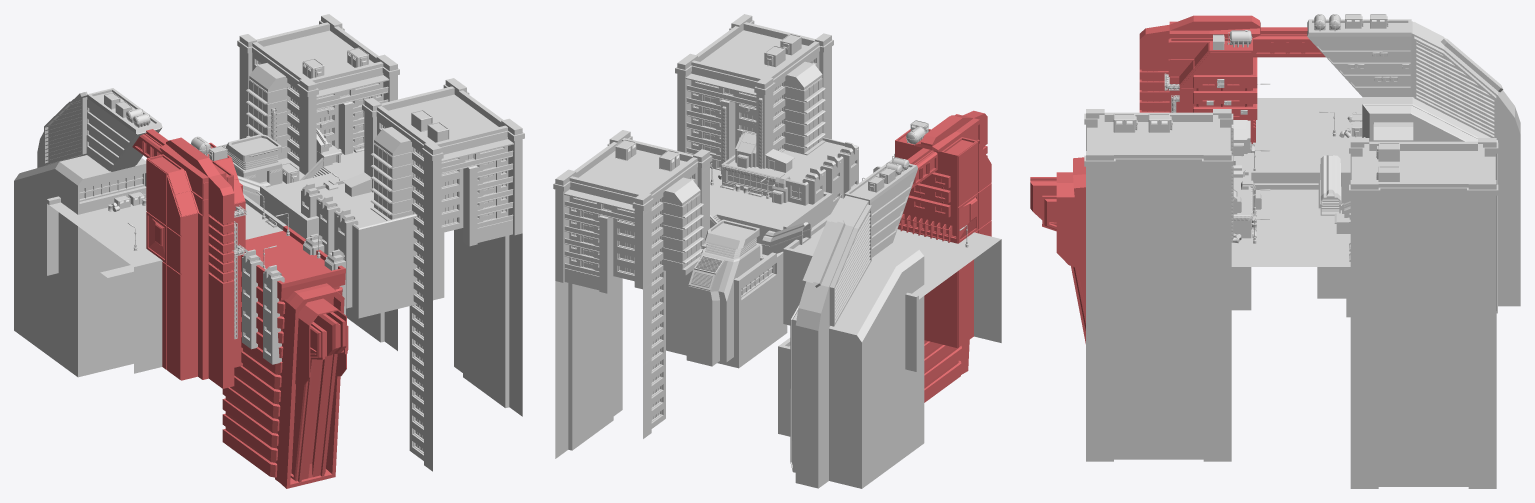
The model's file is SergamePresentation.fbx.
The picture shows the model from 3 angles, left to right: view 1: azimuth 30°, elevation 25°; view 2: azimuth 150°, elevation 25°; view 3: azimuth 270°, elevation 25°; orthographic projection. The views are drawn at different scales.
Visible parts, largest first — view 1: FL1_Mirrored, Props1_Mirrored; view 2: FL1_Mirrored, Props1_Mirrored; view 3: FL1_Mirrored, Props1_Mirrored.
Boxes of the visible parts, bbox=[...] form: FL1_Mirrored: bbox=[14, 14, 524, 488]; Props1_Mirrored: bbox=[104, 47, 449, 339]; FL1_Mirrored: bbox=[553, 14, 1001, 488]; Props1_Mirrored: bbox=[615, 34, 968, 260]; FL1_Mirrored: bbox=[1030, 15, 1520, 488]; Props1_Mirrored: bbox=[1113, 14, 1409, 261].
Size of the model in its own units: 8034 by 7639 by 9813.
